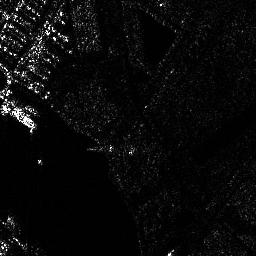ship: (2, 101, 40, 130)
